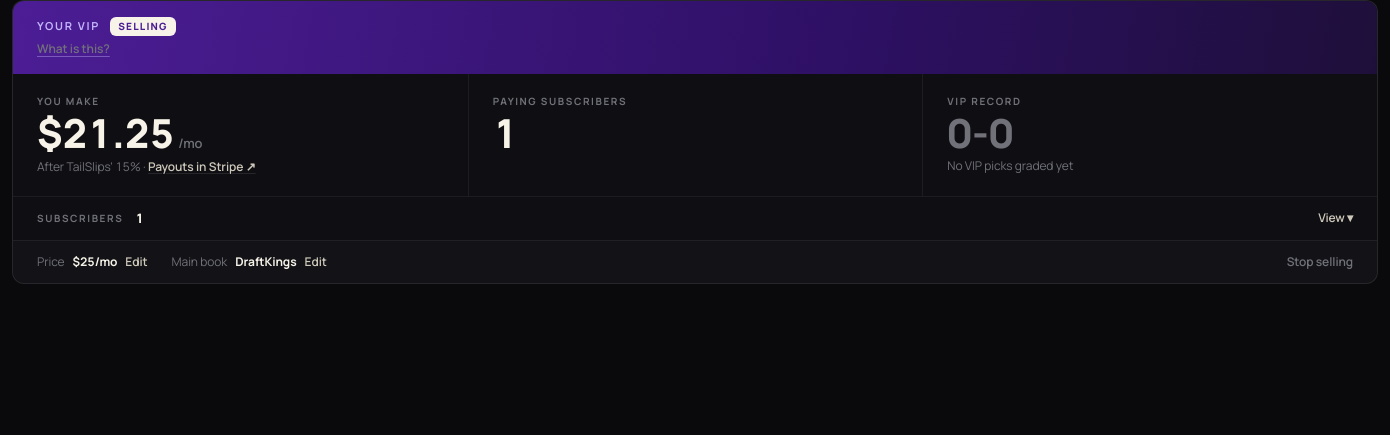
Test: SellerStrip › reloads subscribers after stopping
Expected: the text "$21.25" is shown, [37,113,174,153]
Click the button "Stop selling": (1320, 262) [1287,253,1353,271]
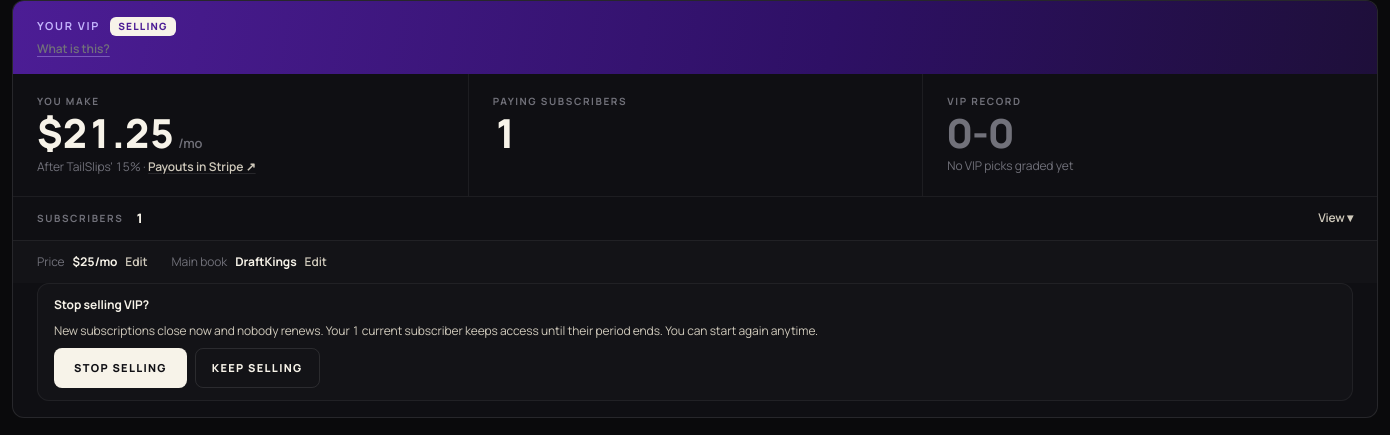
Click the button "Stop selling": (120, 368) [54,348,187,388]
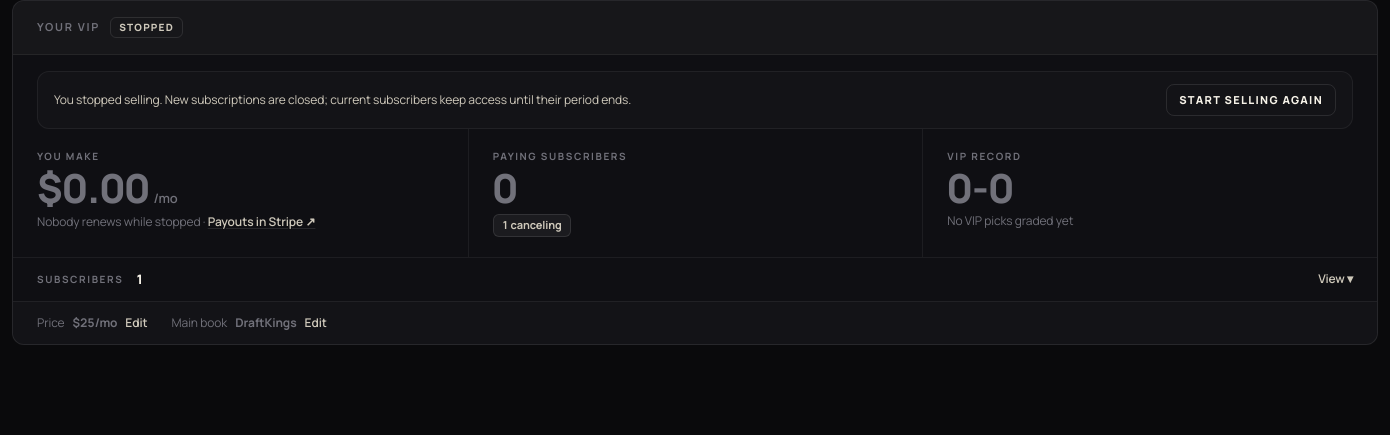
Expected: the text "1 canceling" is shown, [493,214,571,236]
Expected: the text "$0.00" is shown, [37,168,150,208]
